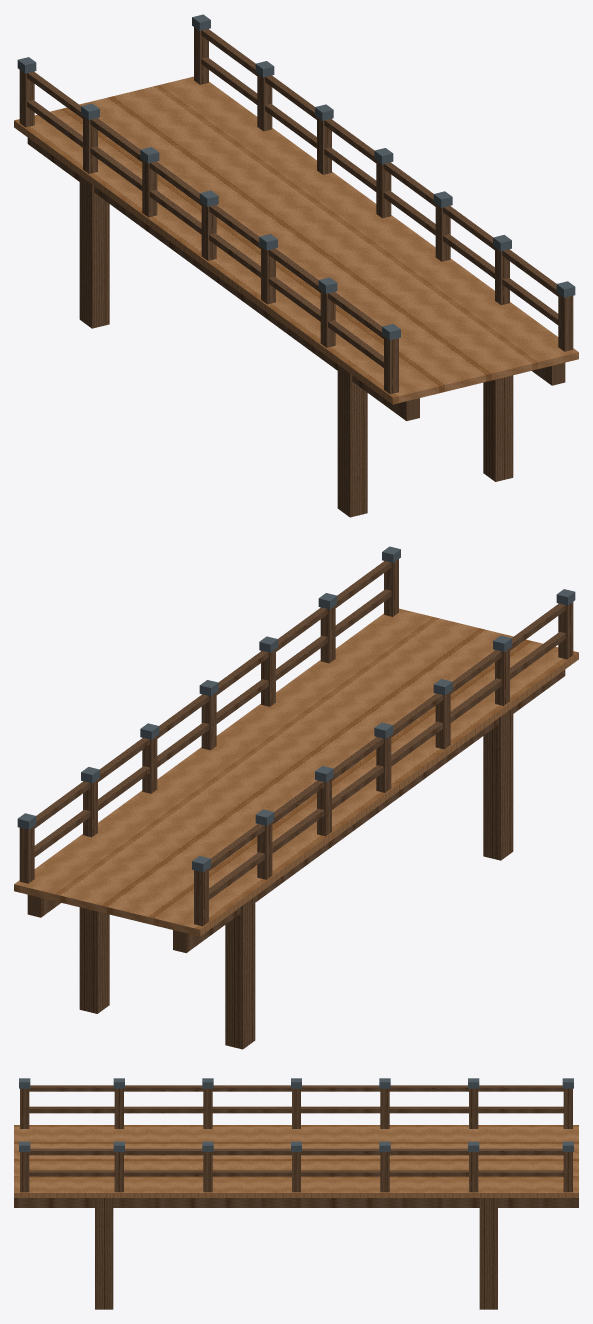
File: bridge.glb
3 renders of one model, top to bottom at view 1: azimuth 30°, elevation 25°; view 2: azimuth 150°, elevation 25°; view 3: azimuth 270°, elevation 25°, orthographic. The views are drawn at different scales.
Visible parts, largest first — view 1: Timber footbridge; view 2: Timber footbridge; view 3: Timber footbridge.
Part boxes in pixels (bbox=[...]): Timber footbridge: bbox=[14, 14, 578, 517]; Timber footbridge: bbox=[14, 546, 578, 1049]; Timber footbridge: bbox=[14, 1078, 578, 1309].
Size of the model in its own units: 2.1 by 2.43 by 7.4.
3 materials, 3 textured.
